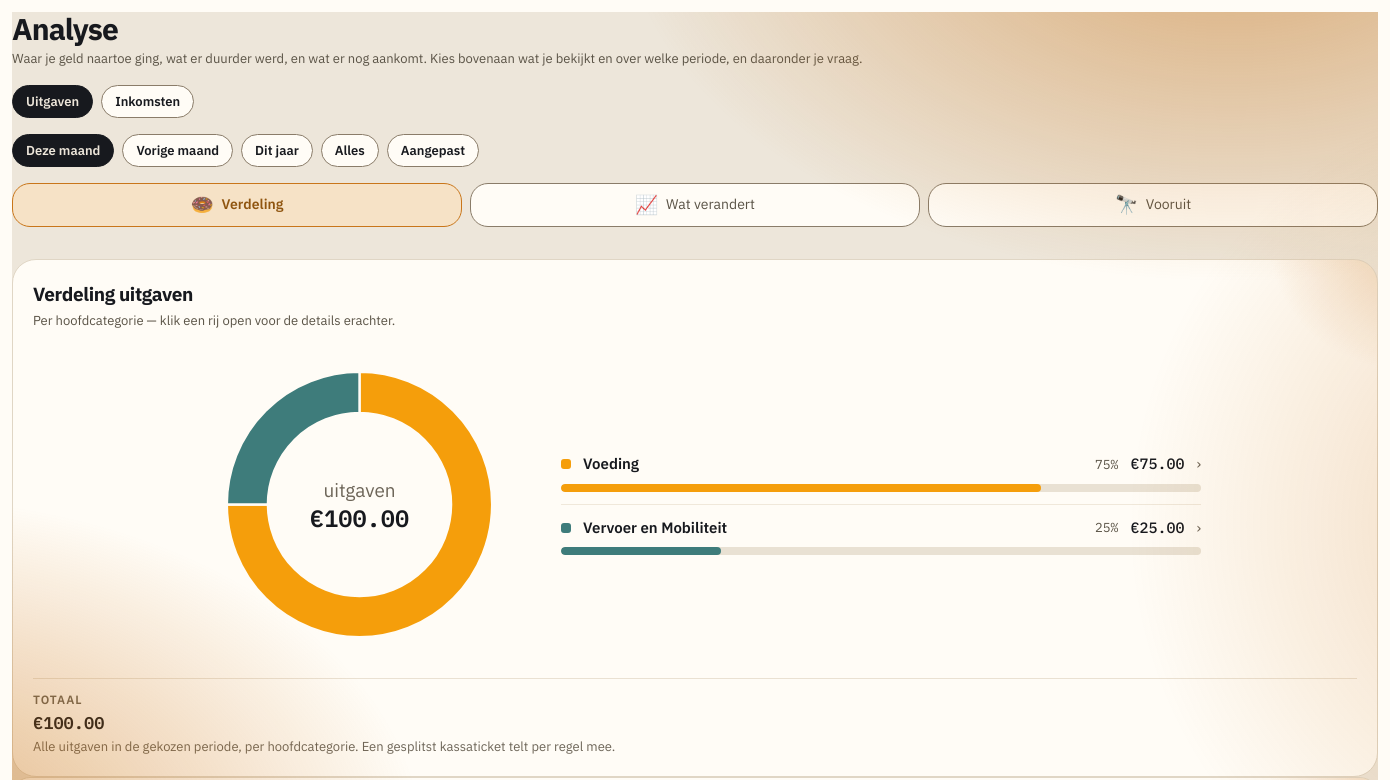
Test: AnalyseSectie — de drie tabbladen › haalt de verdelingskaart weg zodra je naar Vooruit gaat
Click the tab "🔭 Vooruit" at (1153, 204), box x1=928 y1=182 x2=1378 y2=226
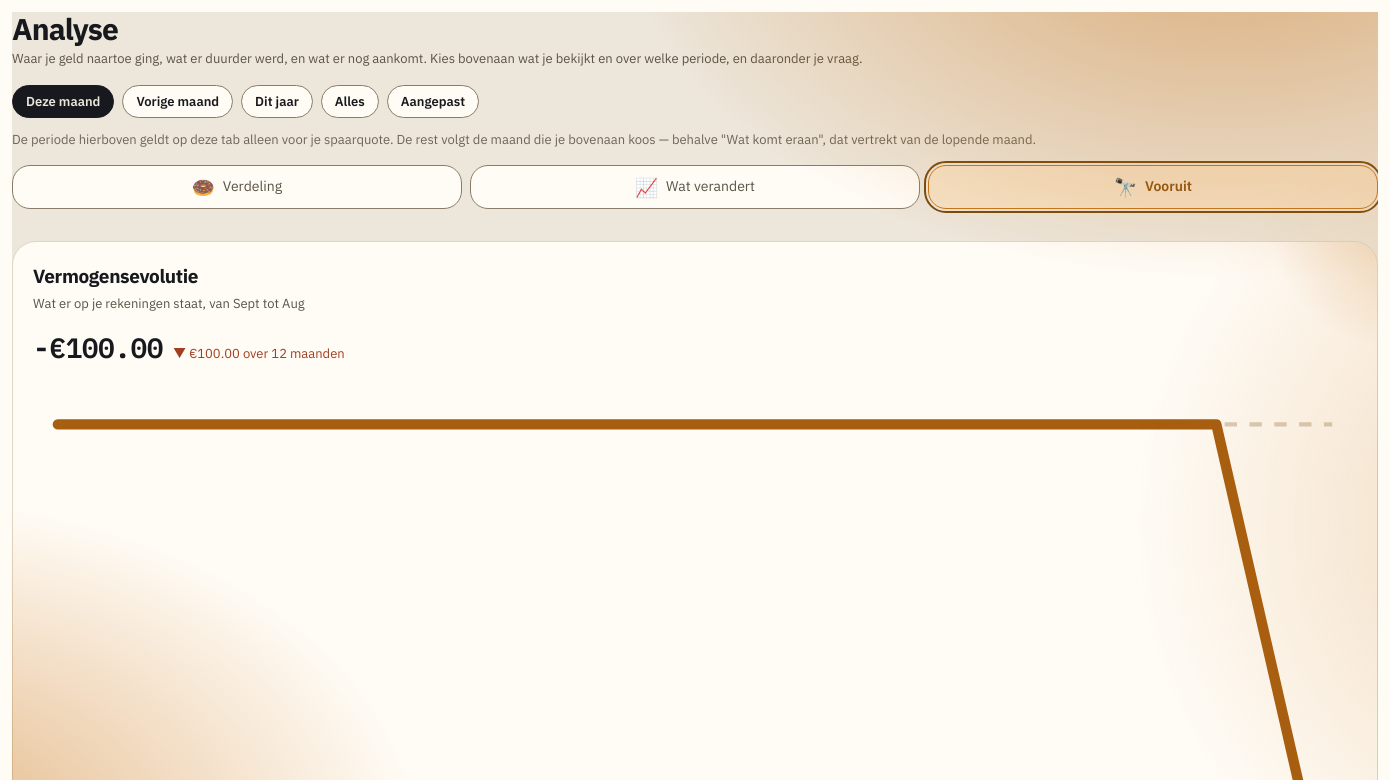
Expected: the heading "Verdeling uitgaven" is gone
